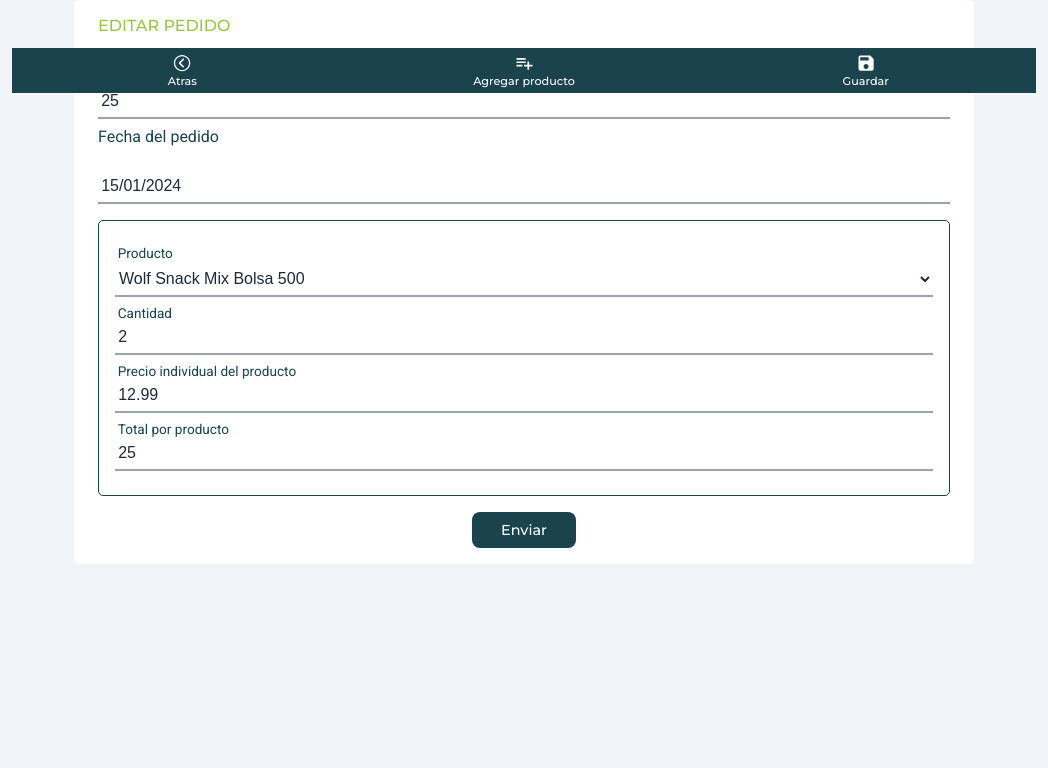
it: AddEditOrderPage › Edit Order Mode › handles API errors when updating order
Expected: the dropdown labelled "Producto" shows "Wolf Snack Mix Bolsa 500", [115,261,933,297]
Step 1. Click the button "Guardar" → (866, 70), box [695,48,1036,93]
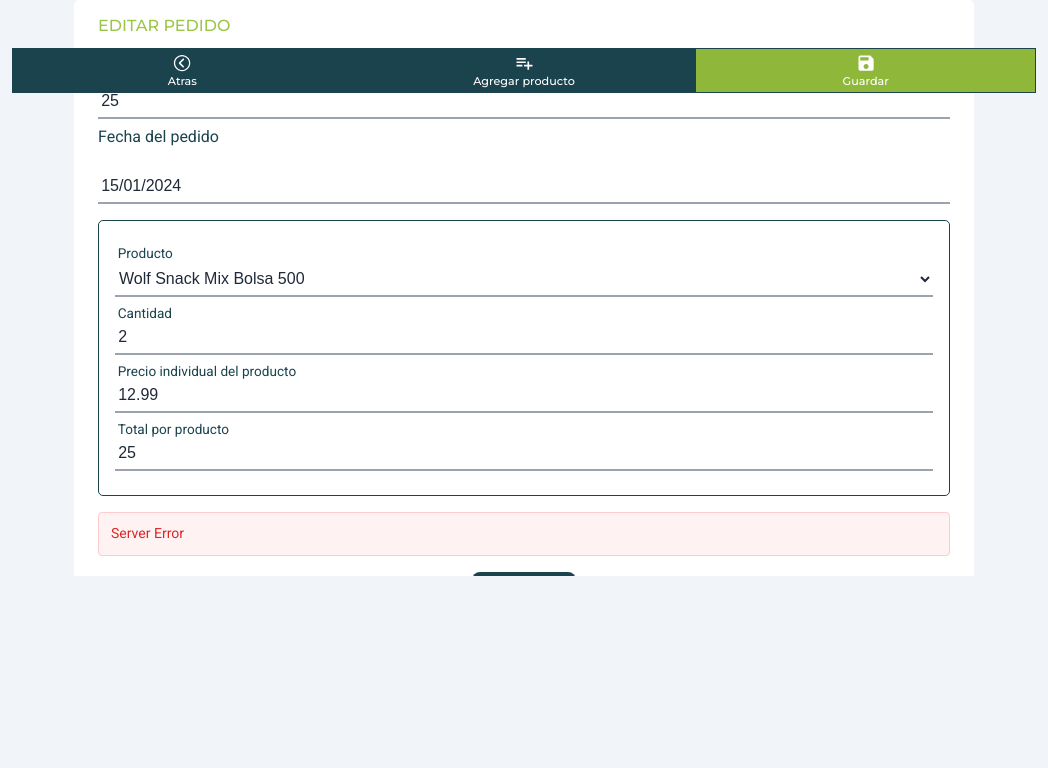
Result: the text "Server Error" is shown at [98,512,950,556]
